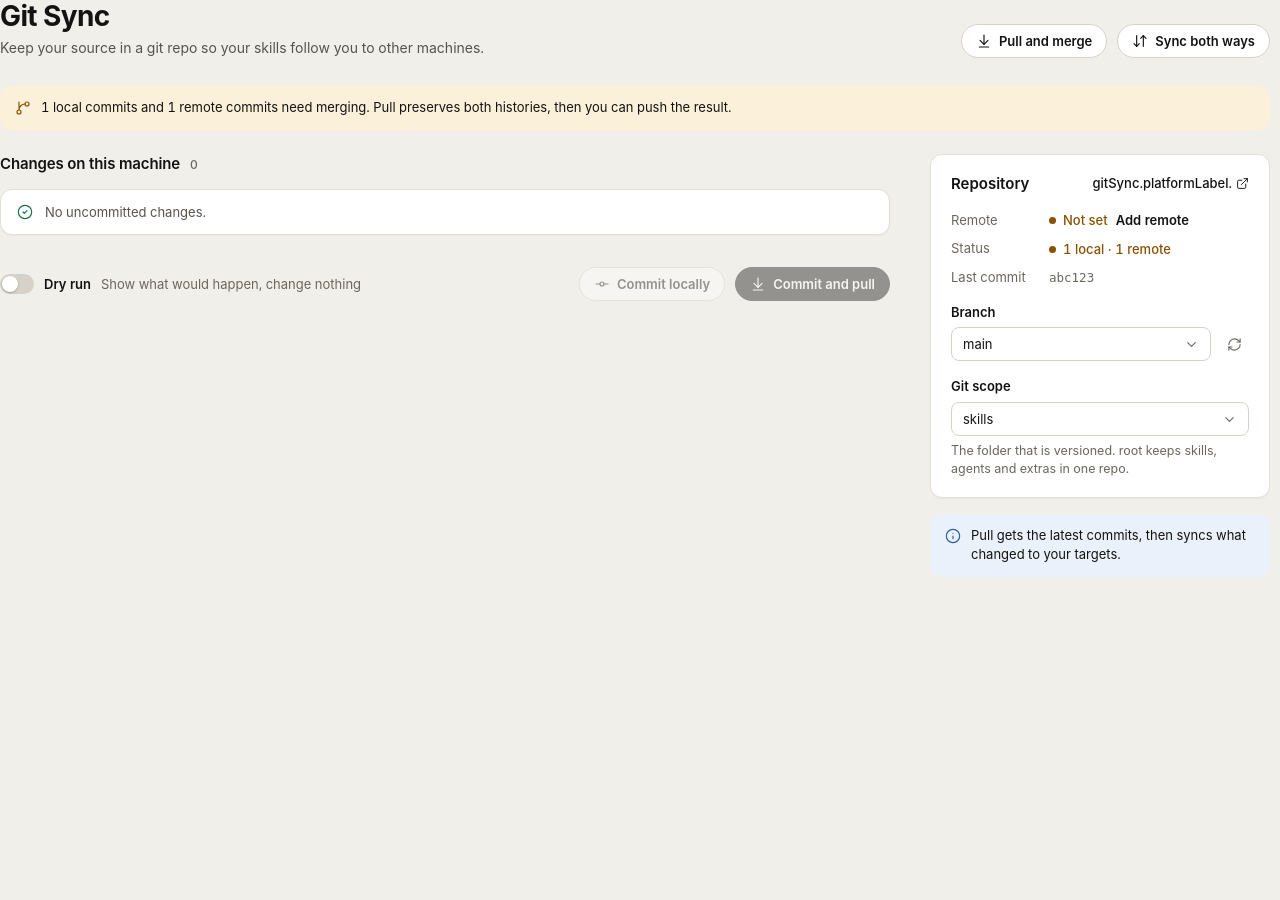
Test: updates from another computer › compares conflicts and requires a choice for every file before applying
Click the button "Pull and merge" at (1034, 42), box [961, 24, 1107, 58]
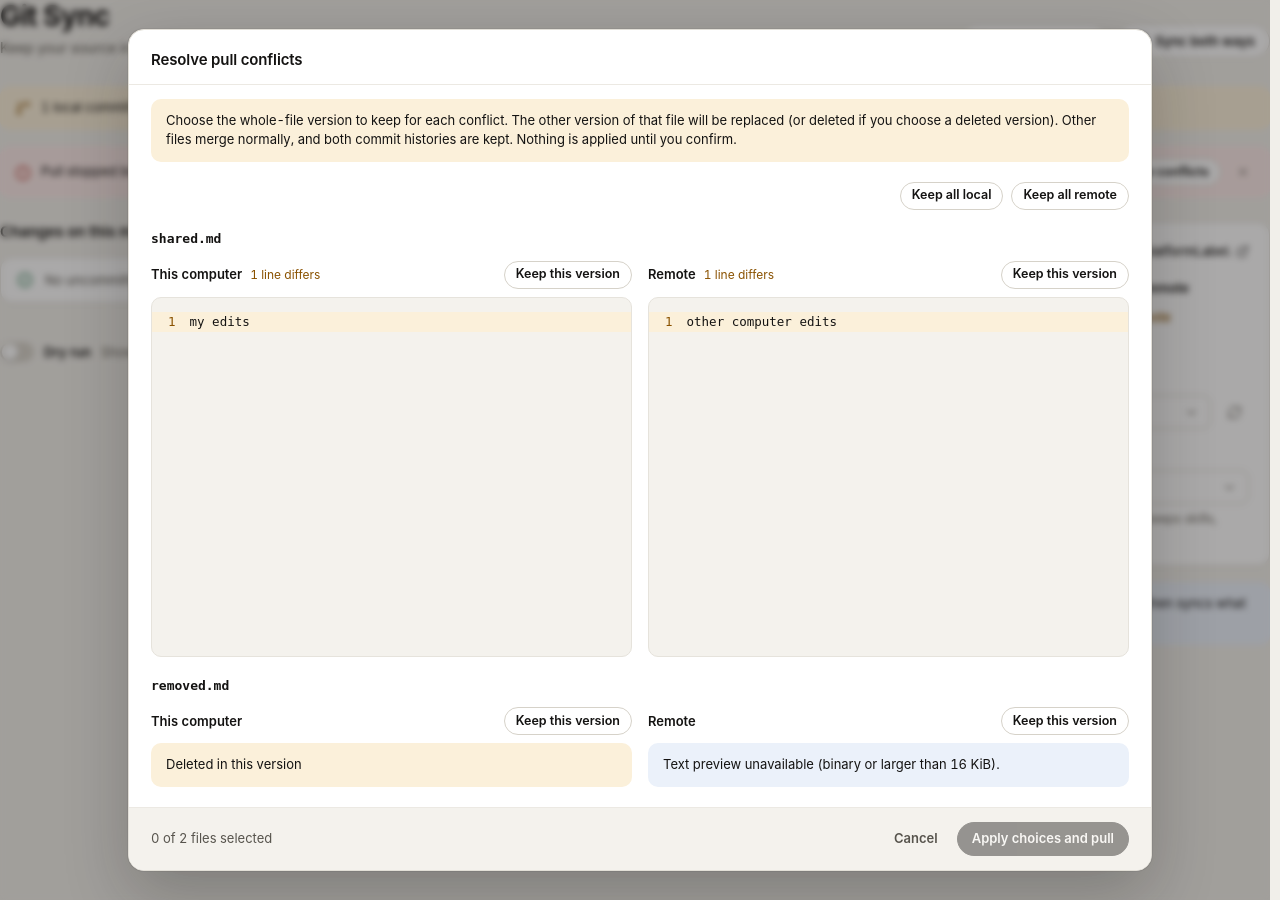
Result: the text "my edits" is shown at [190, 314, 250, 328]
Result: the text "other computer edits" is shown at [686, 314, 837, 328]
Result: the text "Deleted in this version" is shown at [151, 743, 632, 787]
Click the button with aria-label "Keep local version of shared.md" at (568, 274), box [504, 260, 632, 288]
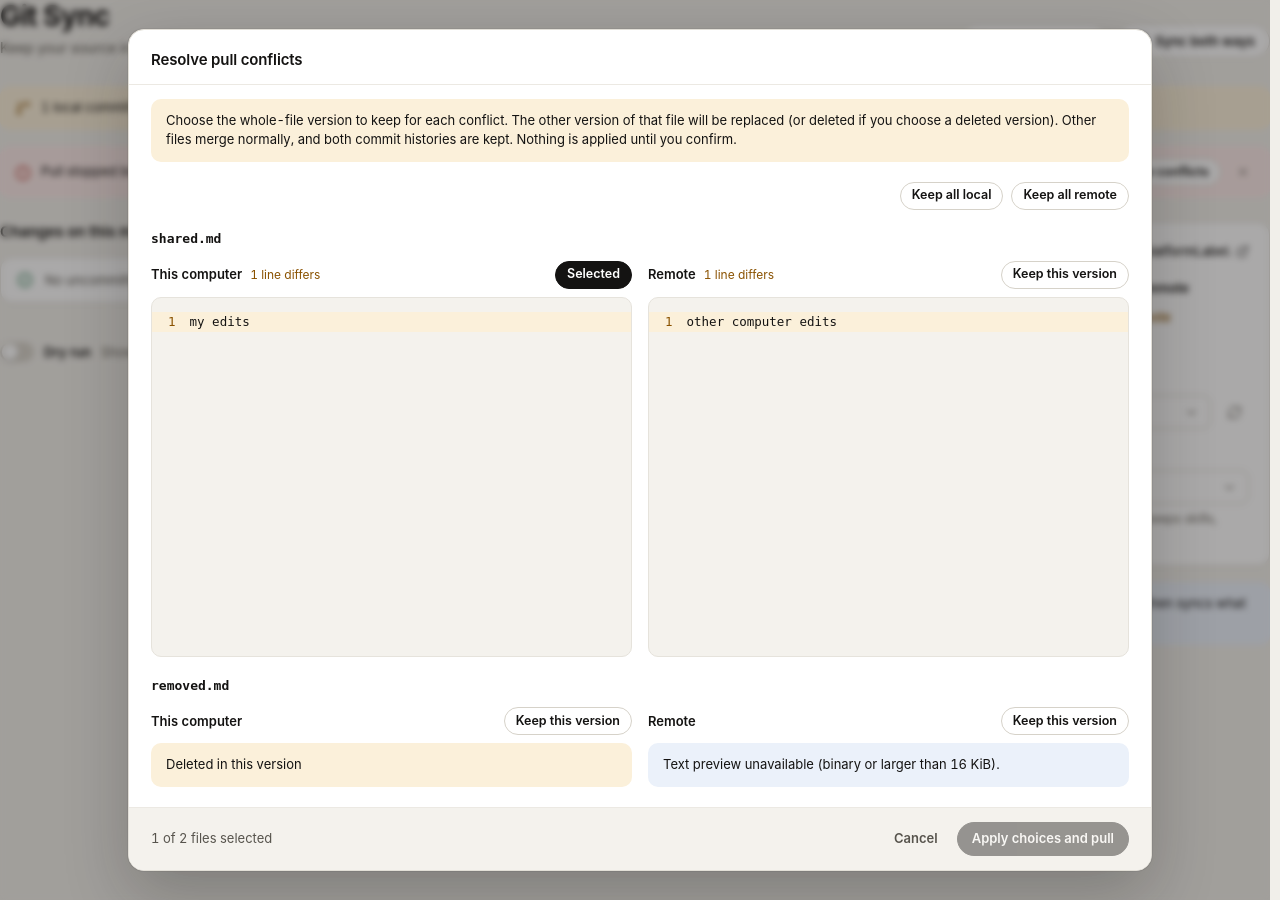
Result: the button "Apply choices and pull" is disabled at [957, 822, 1129, 856]
Click the button with aria-label "Keep remote version of removed.md" at (1065, 721), box [1001, 707, 1129, 735]
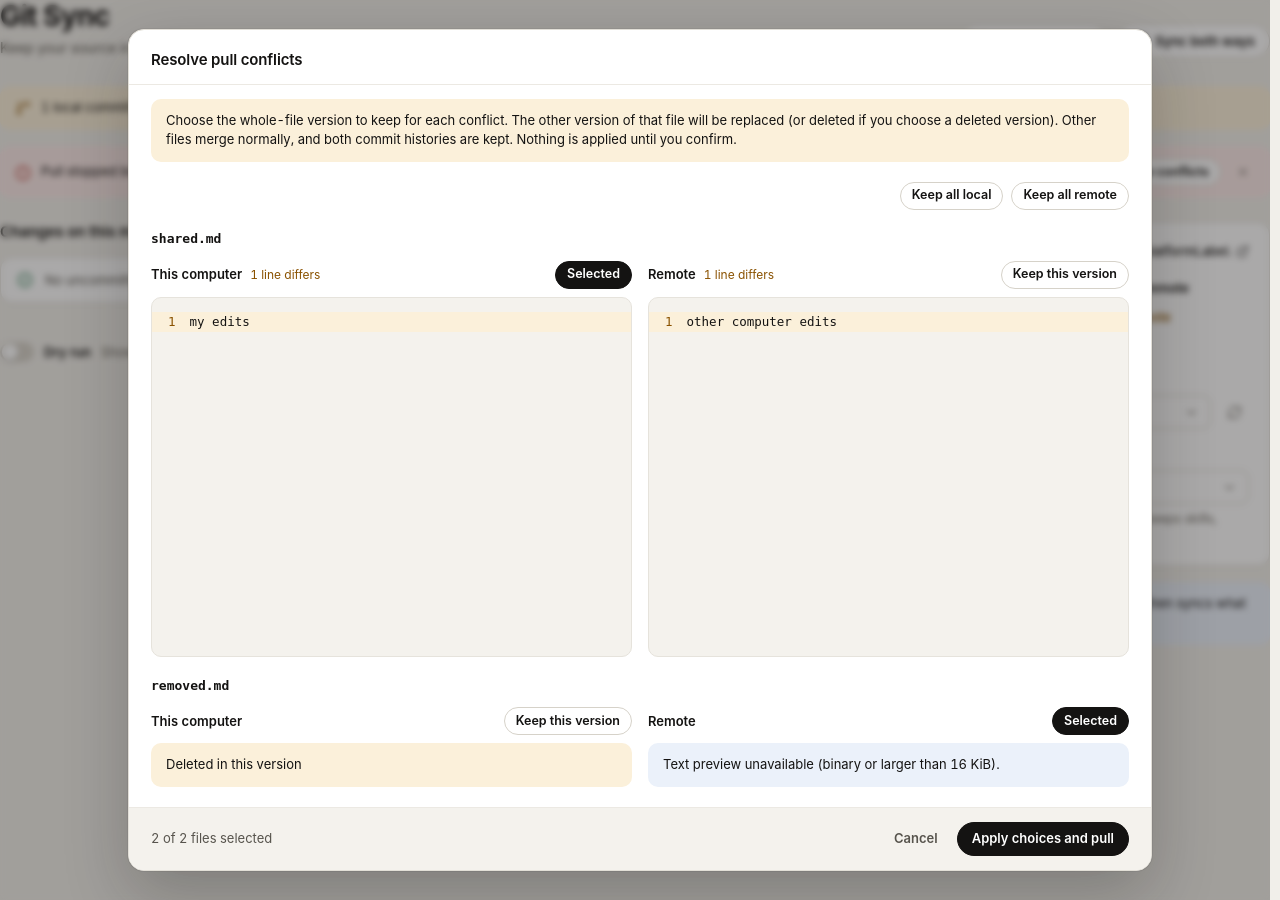
Click the button "Apply choices and pull" at (1043, 839), box [957, 822, 1129, 856]
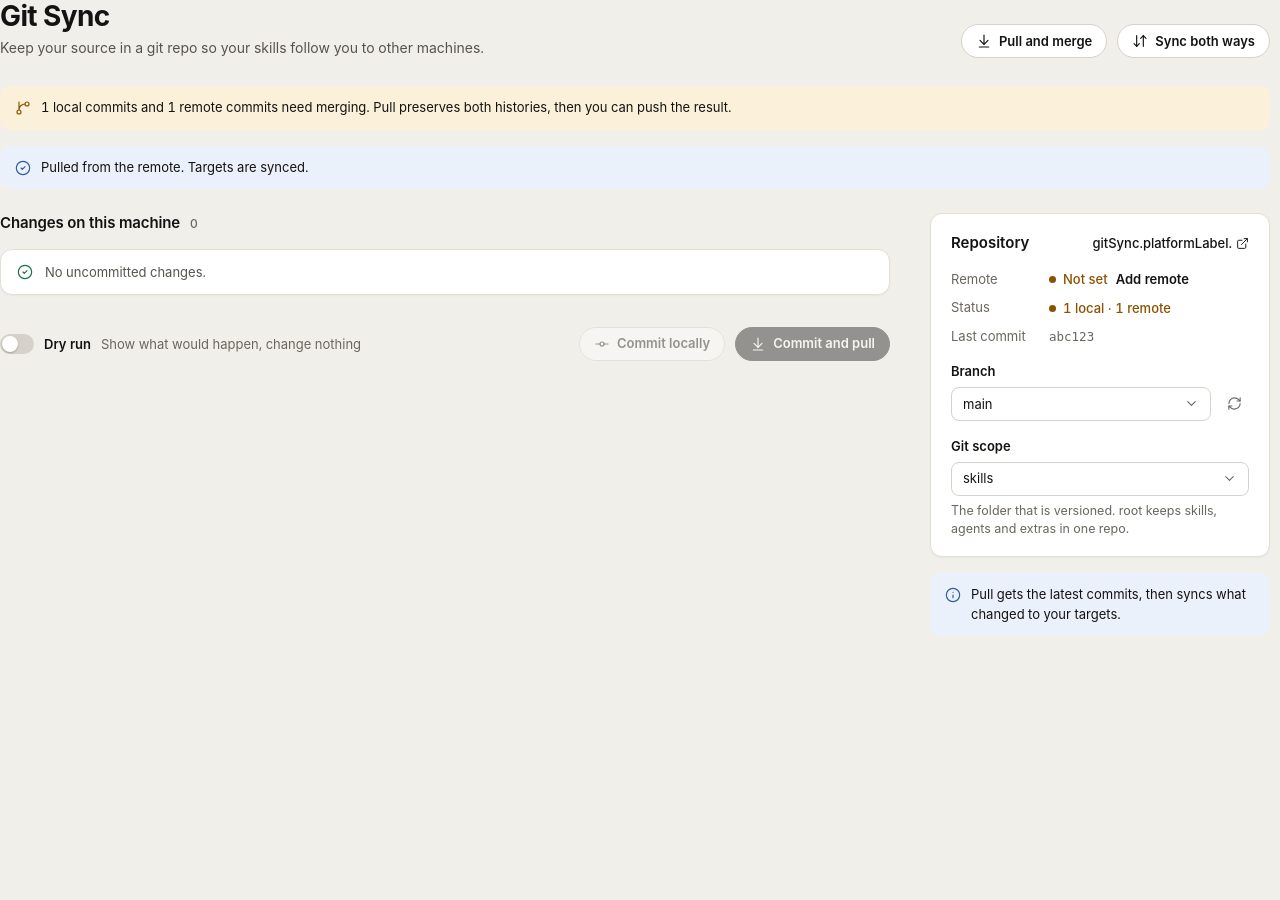
Result: the dialog is gone
